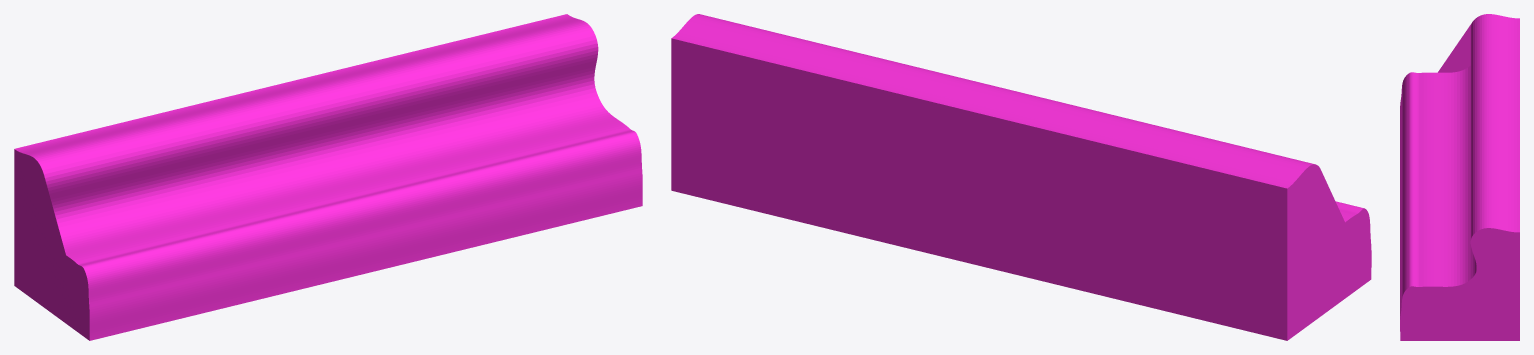
Rendered from sofa.fbx.
3 renders of one model, left to right at view 1: azimuth 30°, elevation 25°; view 2: azimuth 150°, elevation 25°; view 3: azimuth 270°, elevation 25°, orthographic. The views are drawn at different scales.
Parts seen in each view (by area): view 1: Cube; view 2: Cube; view 3: Cube.
Part boxes in pixels (left/top/right/bottom): Cube: left=14, top=14, right=642, bottom=340; Cube: left=671, top=14, right=1371, bottom=340; Cube: left=1400, top=14, right=1519, bottom=340.
Size of the model in its own units: 846 by 208 by 200.
